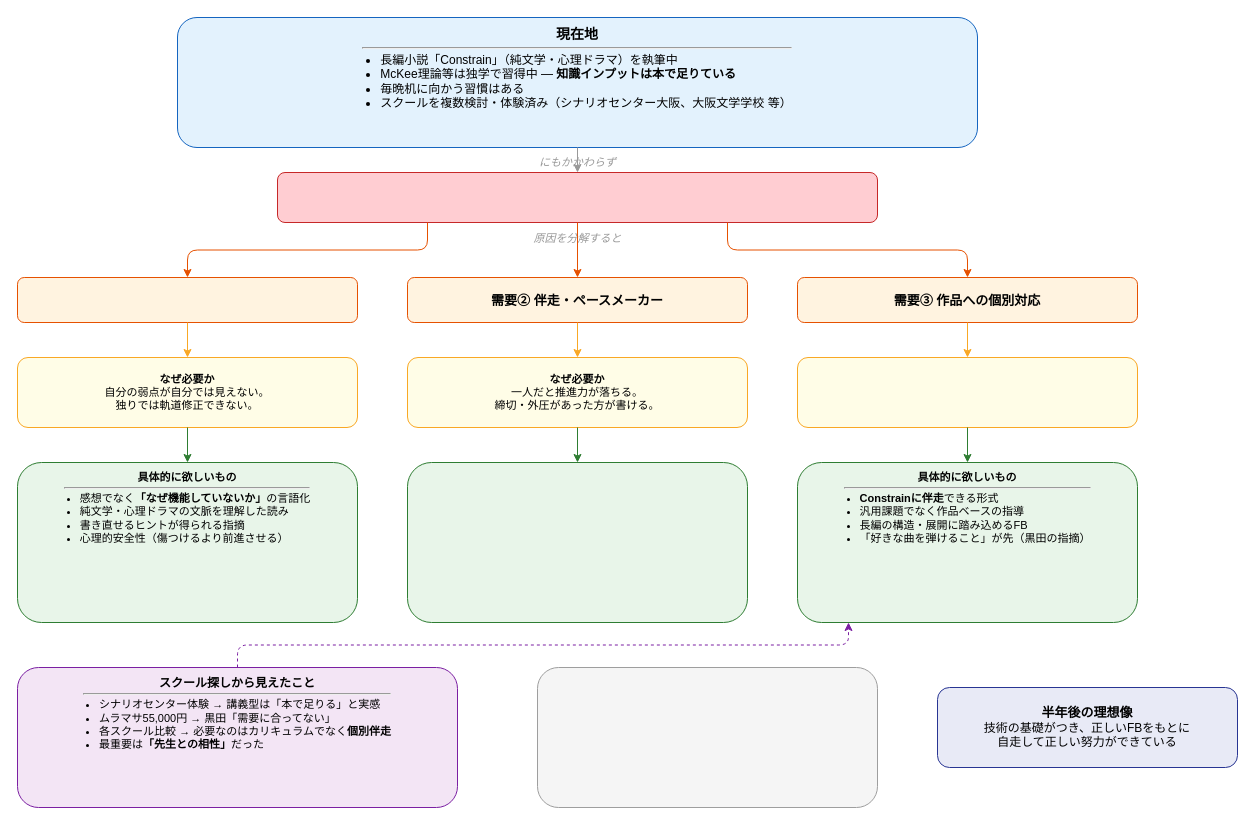
This 1255x825 diagram has some shape labels left out. Each missing label, with the centre of its shape:
"✕ 不要なもの 講義・知識インプット → 本で代替可能 合評・読み合い → 目的ではない デビュー・賞応募サポート → 今は不要 エンタメ特化のカリキュラム" belongs at pixel 707 737.
"なぜ必要か 書きたいものがすでにある。 汎用カリキュラムは需要と合わない。" belongs at pixel 967 392.
"一人で書いていて「前進している」実感が持てない" belongs at pixel 577 197.
"具体的に欲しいもの 定期的な提出サイクル（ 月1〜2回 ） 進捗を見てくれる・せっついてくれる存在 提出→講評→修正→再提出の 反復 習慣化のトリガーとなる外圧" belongs at pixel 577 542.
"需要① 技術的フィードバック" belongs at pixel 187 299.
